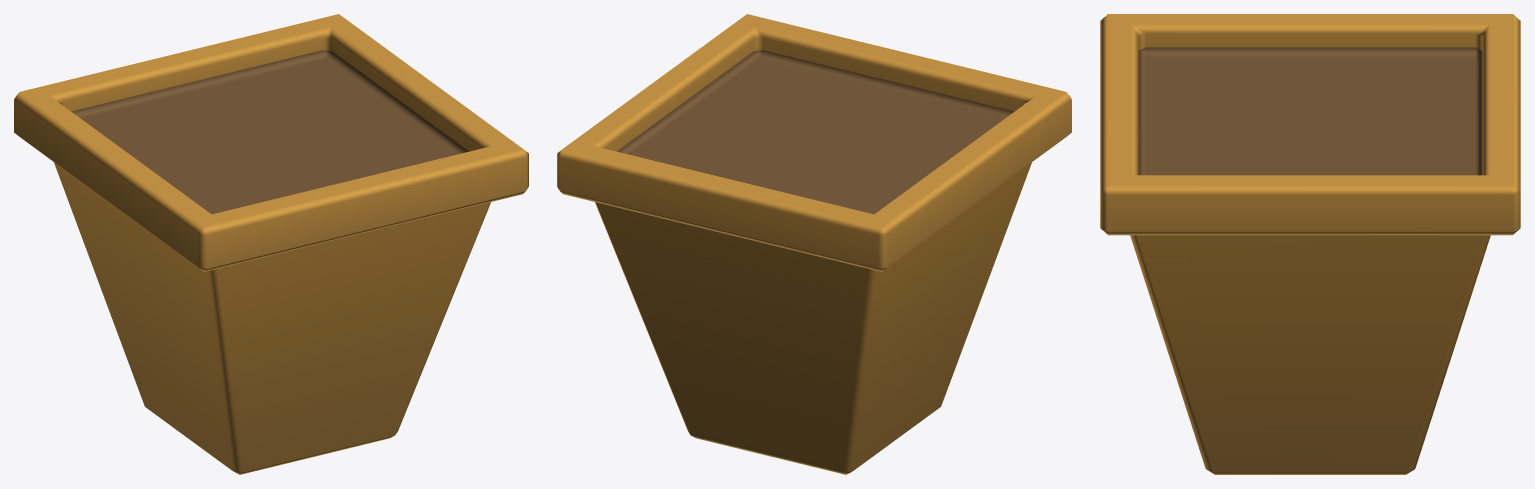
File: PlantPot_SquareTaper.fbx
3 views of the same model, side by side, from view 1: azimuth 30°, elevation 25°; view 2: azimuth 150°, elevation 25°; view 3: azimuth 270°, elevation 25° (orthographic). The views are drawn at different scales.
Parts seen in each view (by area): view 1: PlantPot_SquareTaper; view 2: PlantPot_SquareTaper; view 3: PlantPot_SquareTaper.
Part boxes in pixels (x1,y1,x2,y2): PlantPot_SquareTaper: (14, 14, 528, 474); PlantPot_SquareTaper: (557, 14, 1071, 474); PlantPot_SquareTaper: (1100, 14, 1520, 474).
Size of the model in its own units: 83.66 by 73.64 by 83.66.
